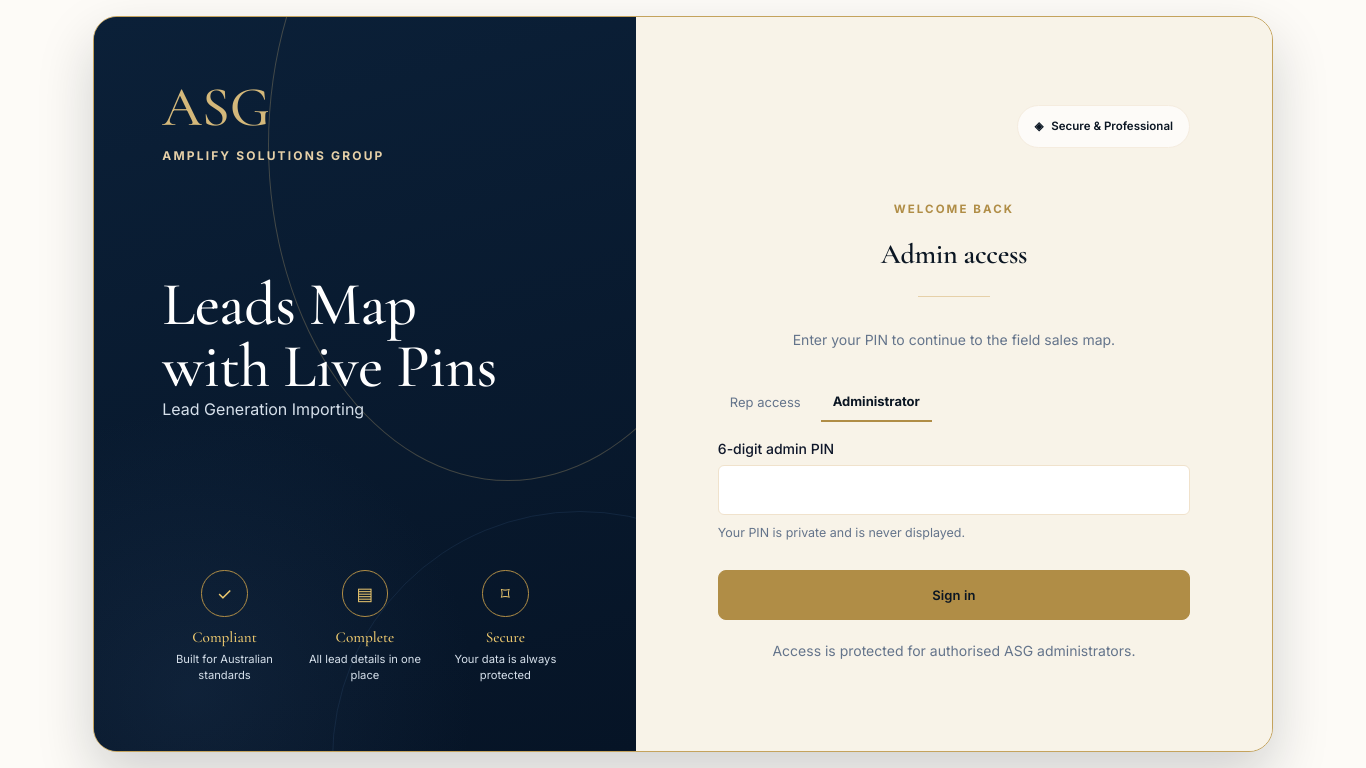
Test: LoginPage › shows the disabled-account message for an inactive administrator
Step 1. Type "111111" into the password field labelled "6-digit admin PIN" → (954, 490), box left=718, top=464, right=1190, bottom=514
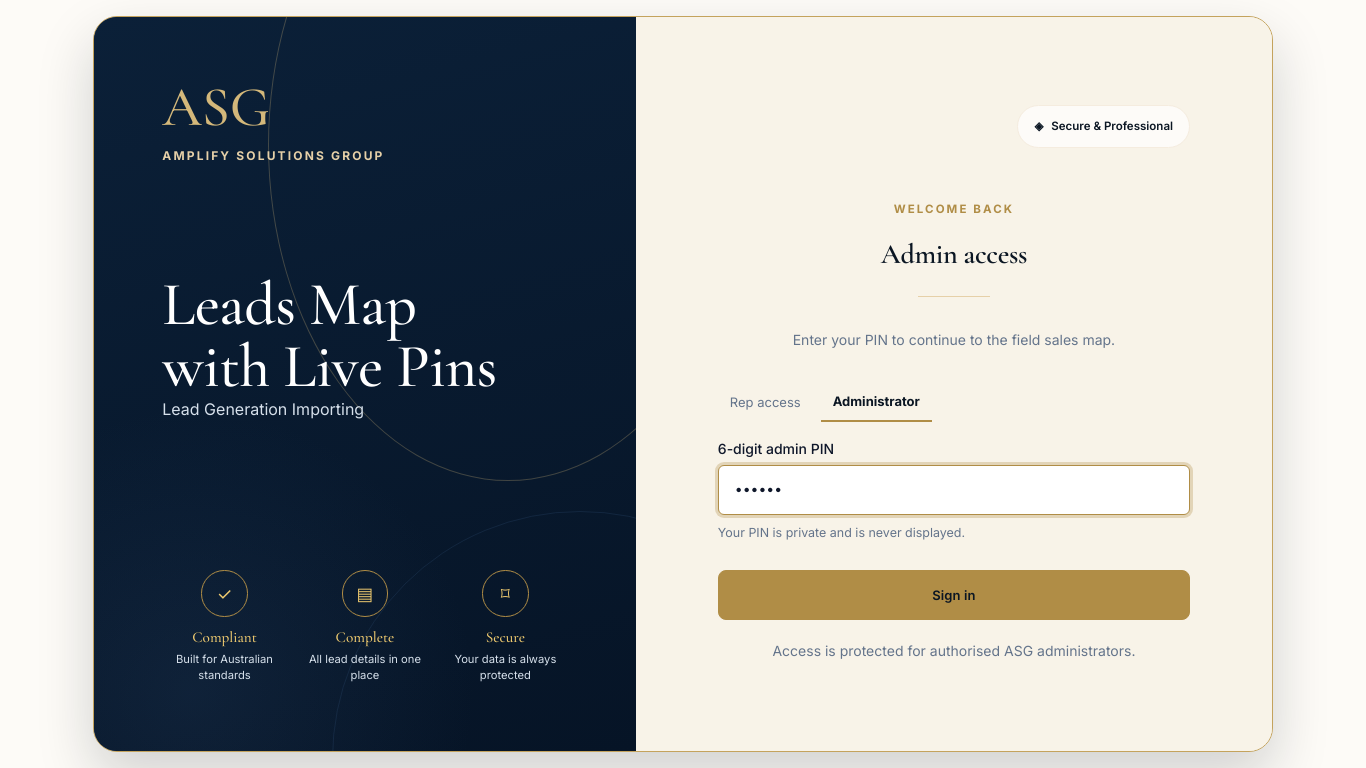
Step 2. Click the button "Sign in" → (954, 596), box left=718, top=570, right=1190, bottom=620
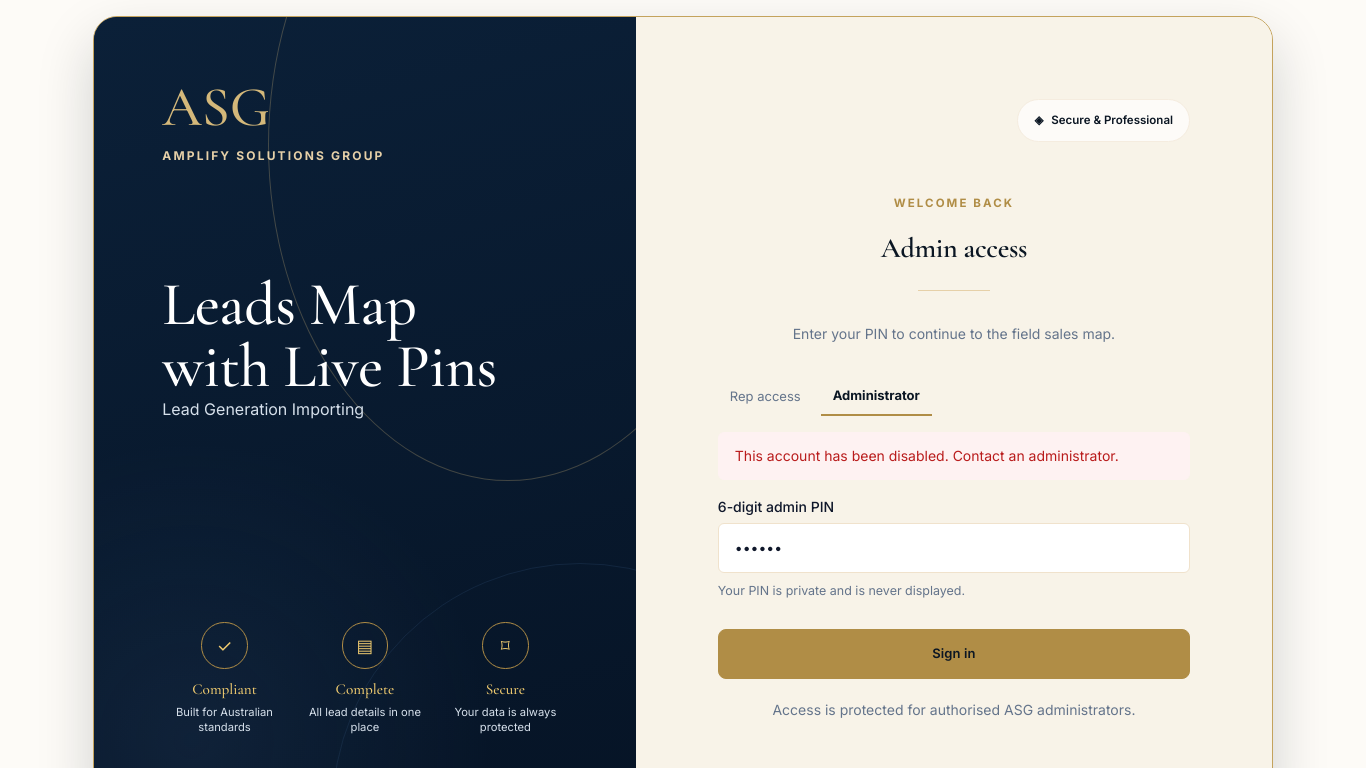
Expected: the message reads "This account has been disabled. Contact an administrator.", left=735, top=447, right=1119, bottom=464
